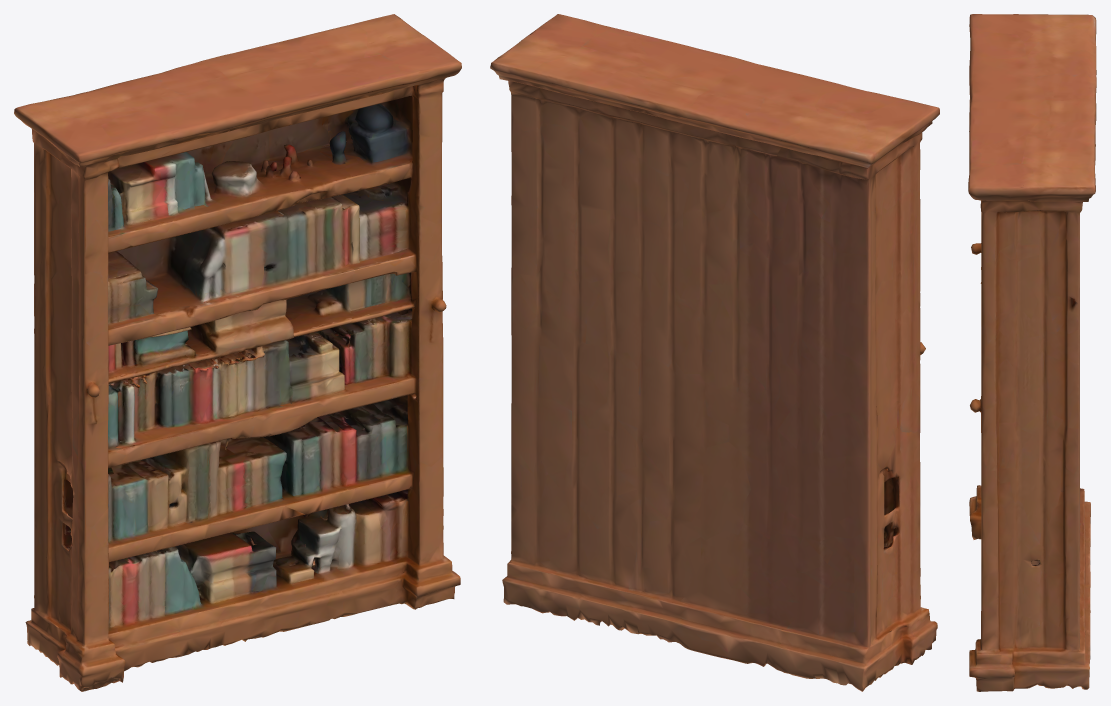
File: shelf_2_compressed.glb
3 renders of one model, left to right at view 1: azimuth 30°, elevation 25°; view 2: azimuth 150°, elevation 25°; view 3: azimuth 270°, elevation 25°, orthographic. The views are drawn at different scales.
Parts seen in each view (by area): view 1: Mesh_0.001; view 2: Mesh_0.001; view 3: Mesh_0.001.
Boxes of the visible parts, box(x1,y1,x2,y2) form: Mesh_0.001: box(14, 14, 461, 691); Mesh_0.001: box(490, 14, 939, 691); Mesh_0.001: box(968, 14, 1096, 691).
Size of the model in its own units: 1.48 by 2 by 0.4594.
Materials: 1 (1 with a texture image).
